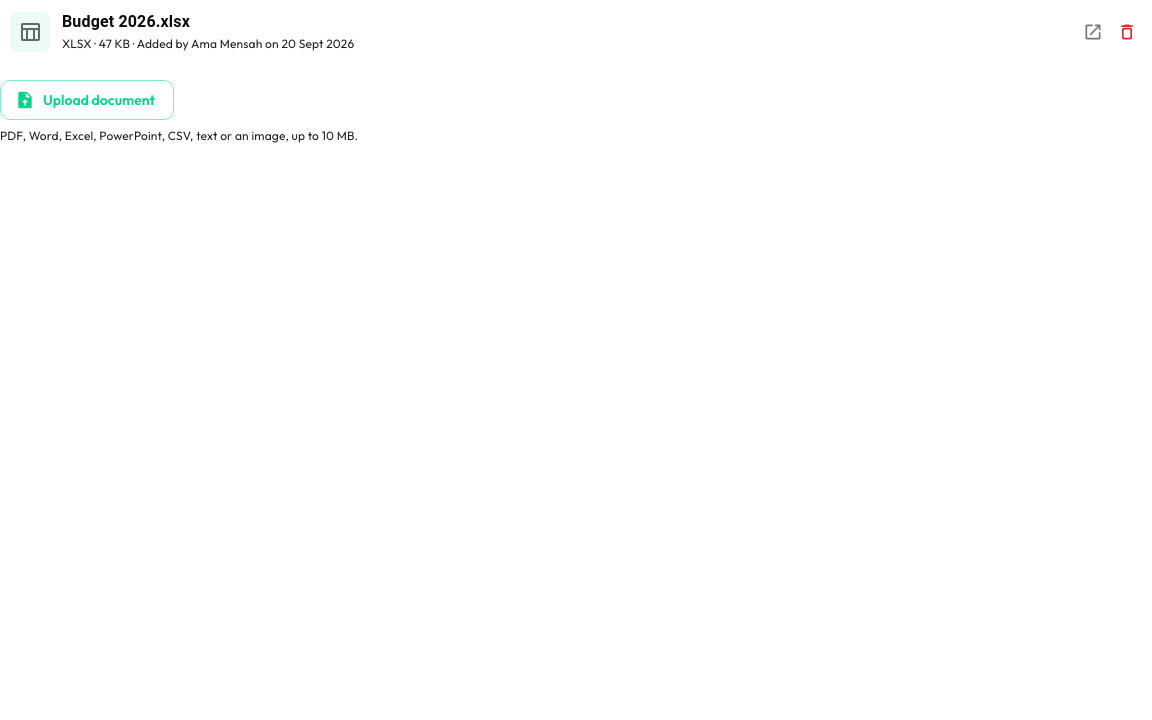
Scenario: FileAttachmentList › asks before removing, naming the document
Click the button named "Remove Budget 2026.xlsx" at [1127, 32], box [1112,17,1142,47]
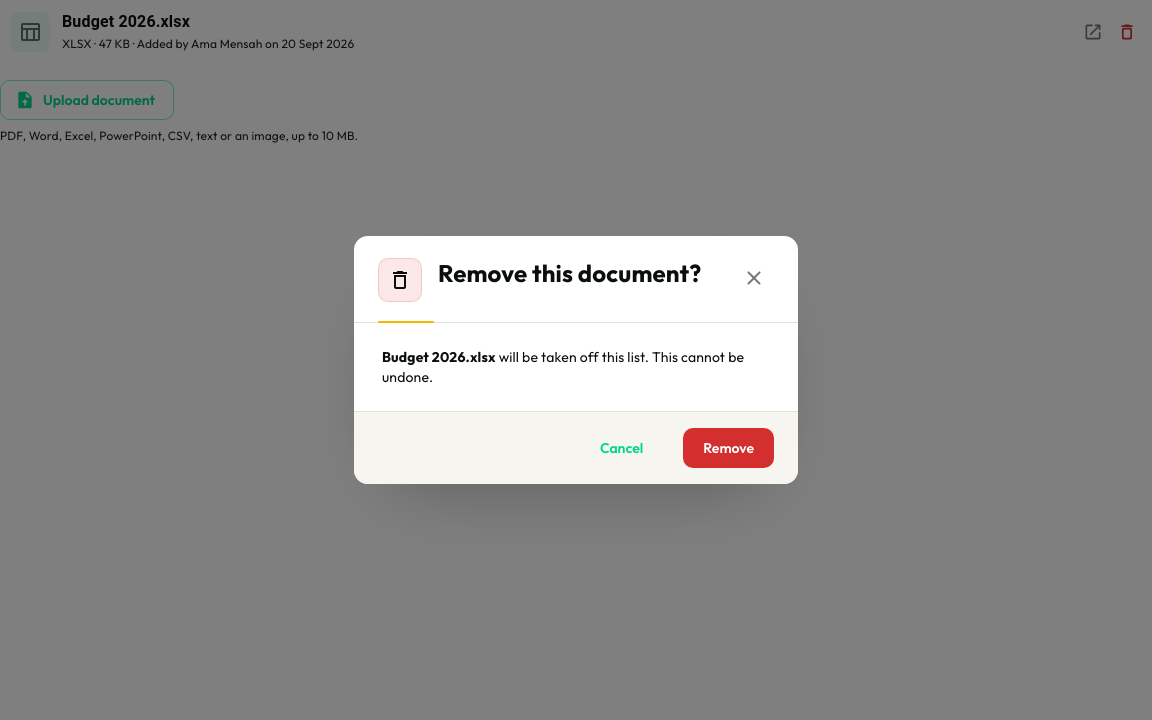
Expected: the dialog "Remove this document?" shows "Budget 2026.xlsx will be taken off this list.", [354,236,798,484]
Click the button "Remove" at [729, 448], box [683,428,774,468]
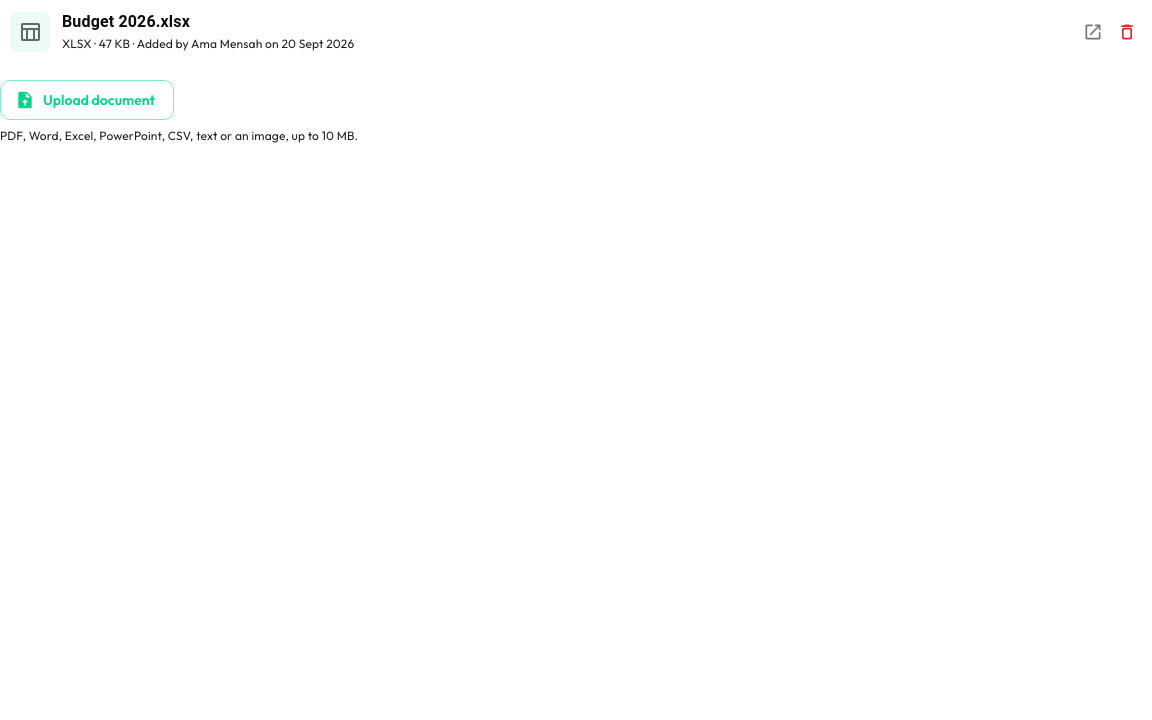
Expected: the dialog is gone
